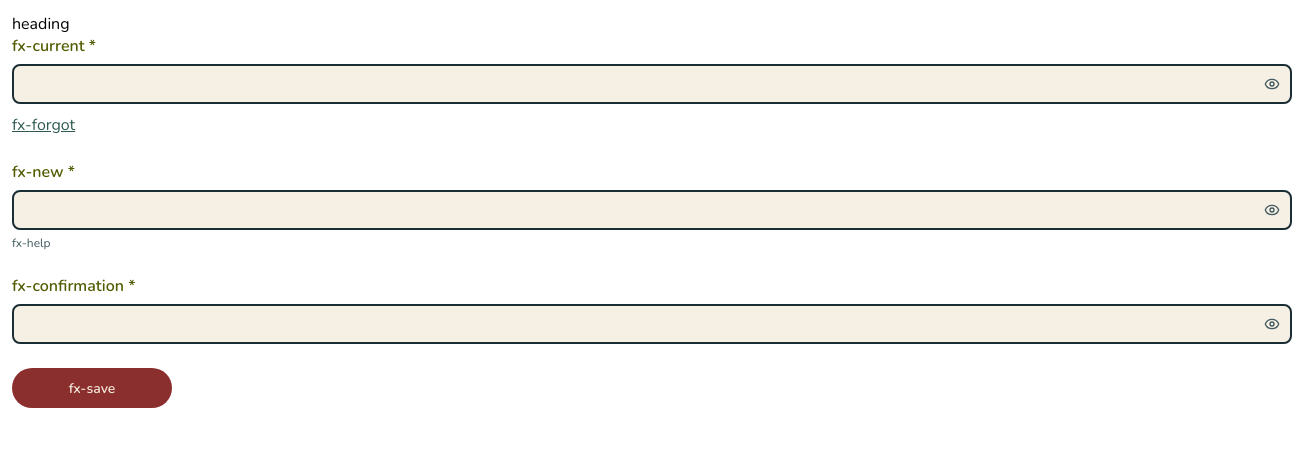
Scenario: PasswordForm — the write › a 200 clears the three fields and shows passwordUpdated as a status
The image size is (1304, 475).
Type "Old12345" into the password field labelled "fx-current *" at (652, 84), box [12,64,1292,104]
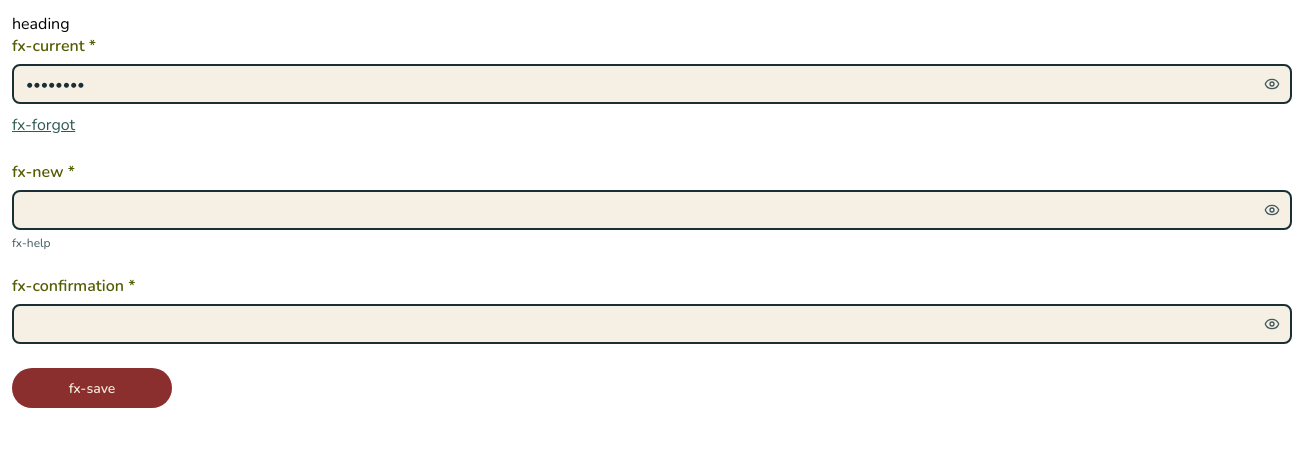
Type "New12345" into the password field labelled "fx-new *" at (652, 210), box [12,190,1292,230]
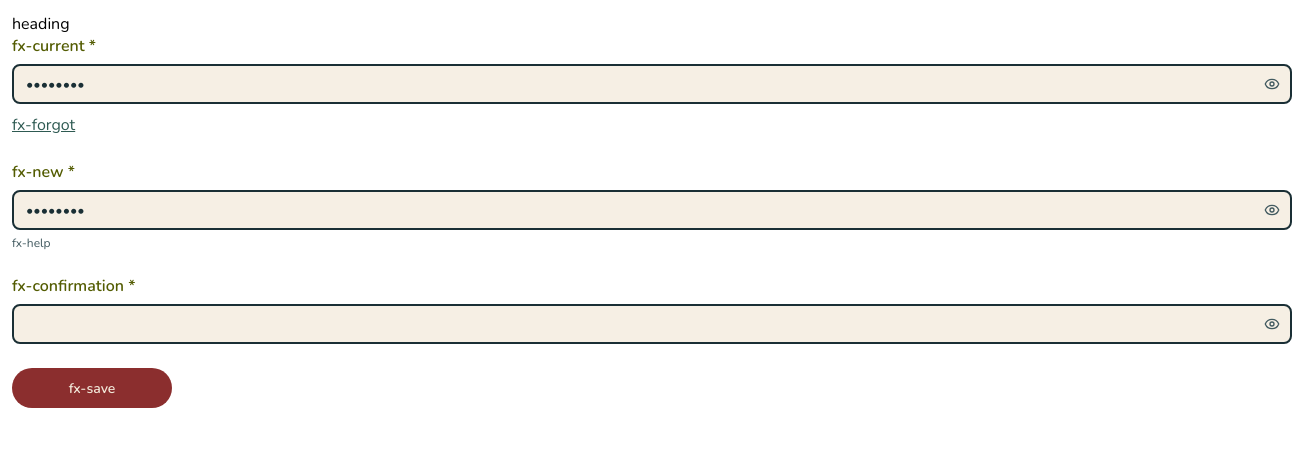
Type "New12345" into the password field labelled "fx-confirmation *" at (652, 324), box [12,304,1292,344]
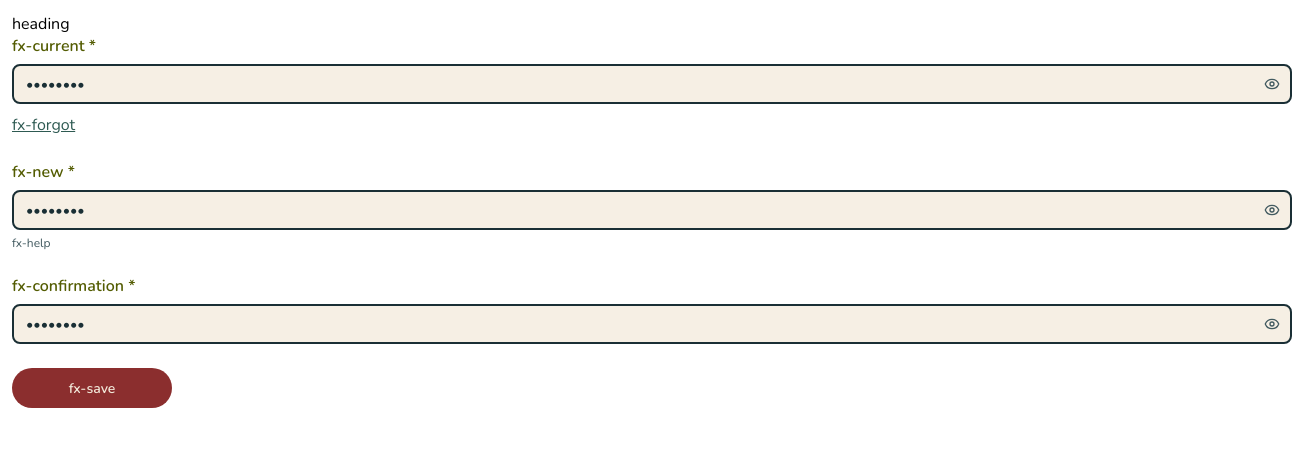
Click the button "fx-save" at (92, 388), box [12,368,172,408]
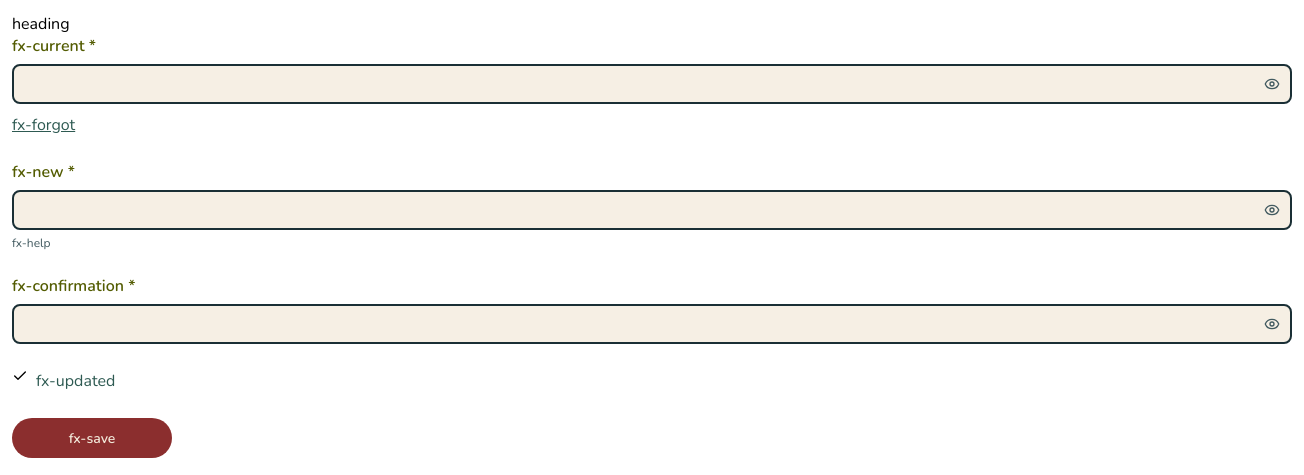
Expected: the message reads "fx-updated", [36,370,115,392]
